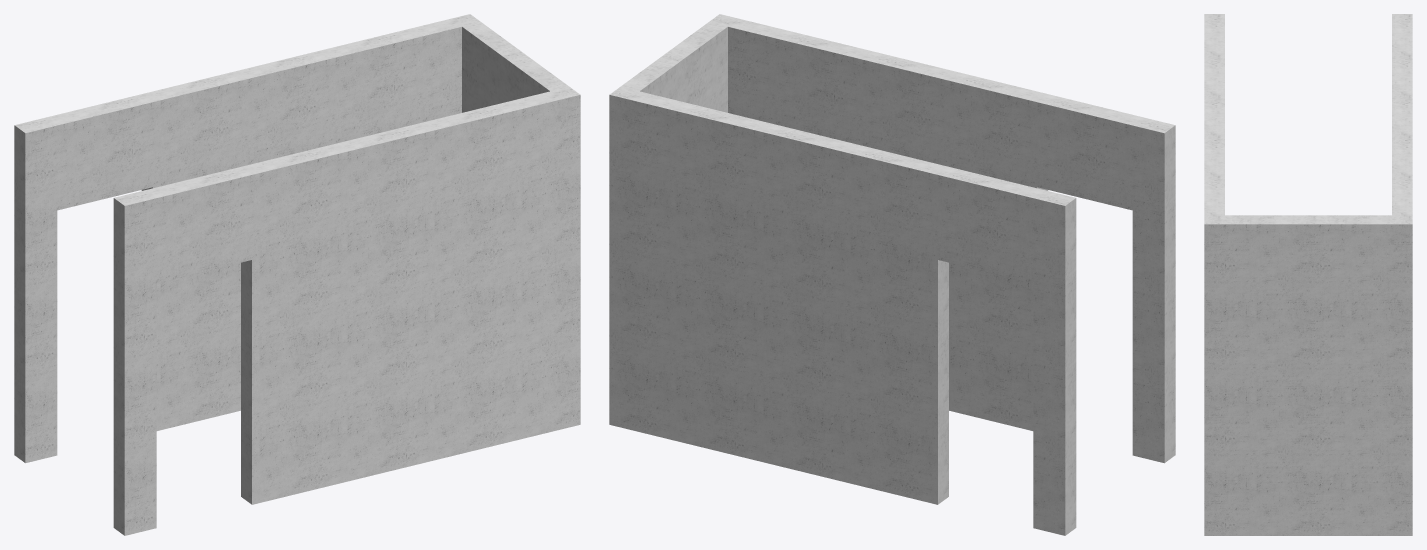
Rendered from G層娛樂室 樓梯間wall 20210623.gltf.
3 views of the same model, side by side, from view 1: azimuth 30°, elevation 25°; view 2: azimuth 150°, elevation 25°; view 3: azimuth 270°, elevation 25° (orthographic). The views are drawn at different scales.
Parts seen in each view (by area): view 1: root; view 2: root; view 3: root.
Part boxes in pixels (bbox=[...]): root: bbox=[14, 14, 580, 535]; root: bbox=[609, 14, 1175, 535]; root: bbox=[1204, 14, 1412, 535].
Size of the model in its own units: 4.77 by 3.3 by 2.
Materials: 1 (1 with a texture image).
